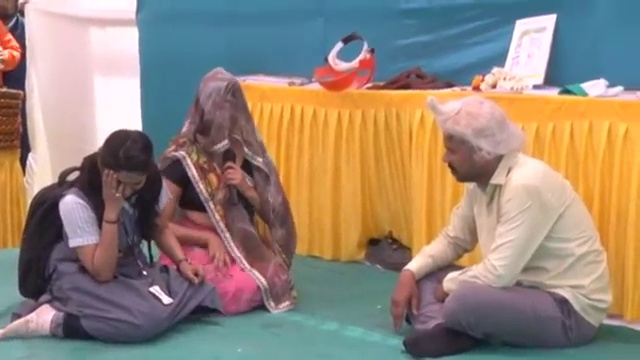helmet_off: (429, 94, 516, 190), (97, 126, 156, 204), (192, 71, 248, 141), (2, 0, 18, 19)
person: (382, 94, 615, 356), (2, 129, 214, 337), (154, 64, 293, 316), (0, 0, 26, 88)
